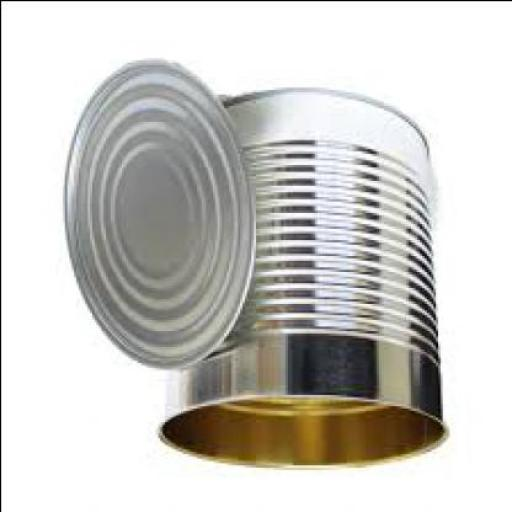metal: (152, 93, 446, 469), (61, 61, 253, 369)
